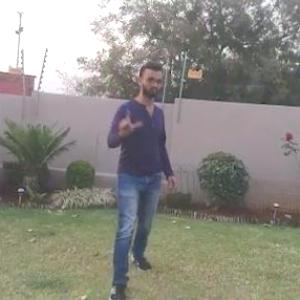land_hand: (111, 104, 145, 137)
